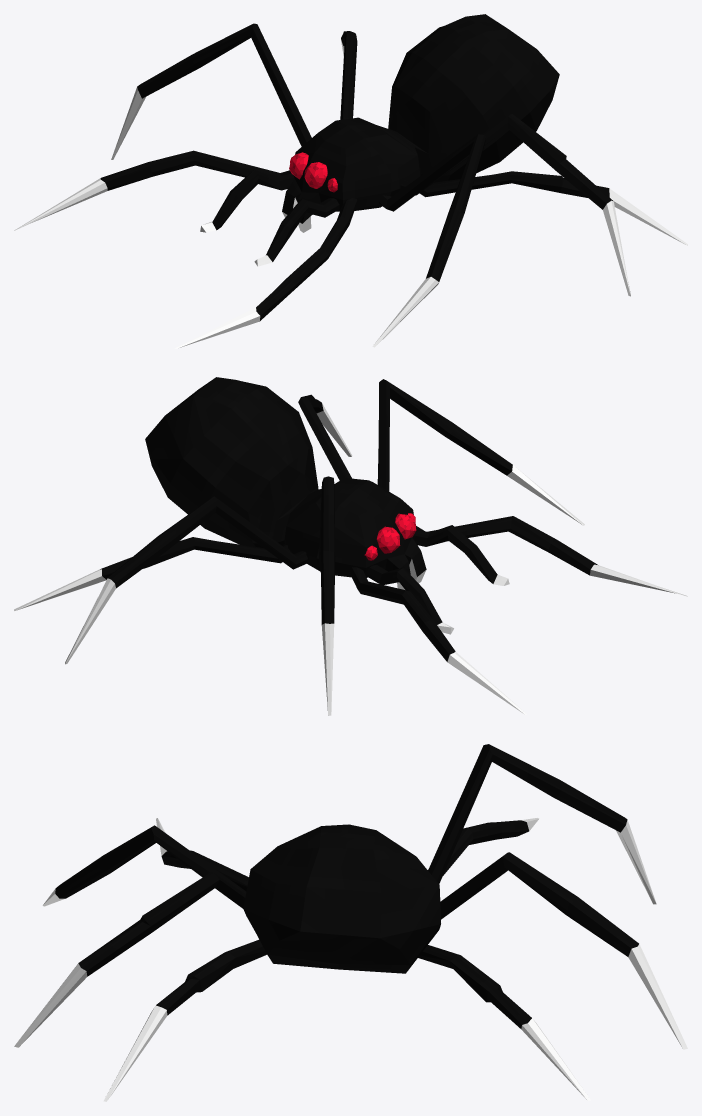
The model's file is spiderAttack14.obj.
3 renders of one model, top to bottom at view 1: azimuth 30°, elevation 25°; view 2: azimuth 150°, elevation 25°; view 3: azimuth 270°, elevation 25°, orthographic. The views are drawn at different scales.
Visible parts, largest first — view 1: Cube.004_Cube.005; view 2: Cube.004_Cube.005; view 3: Cube.004_Cube.005.
Boxes of the visible parts, x1,y1,x2,y2 form: Cube.004_Cube.005: (14,14,687,348); Cube.004_Cube.005: (14,377,687,715); Cube.004_Cube.005: (14,744,687,1101).
Size of the model in its own units: 34.58 by 11.73 by 34.66.
